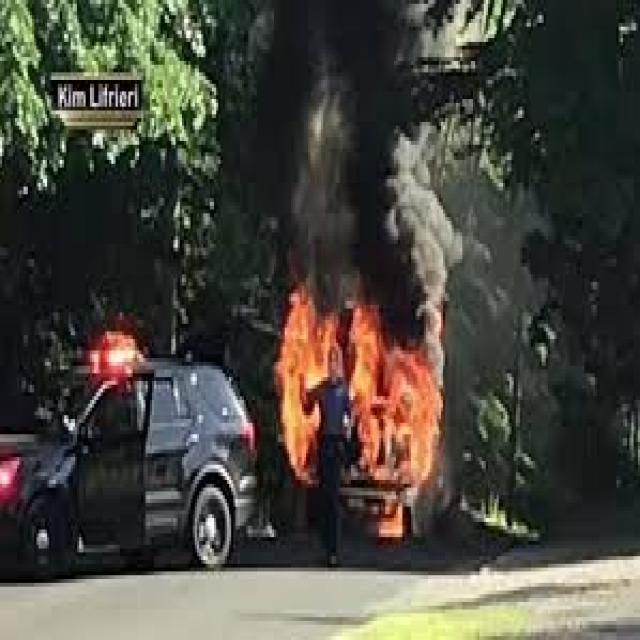fire: (272, 282, 447, 518)
